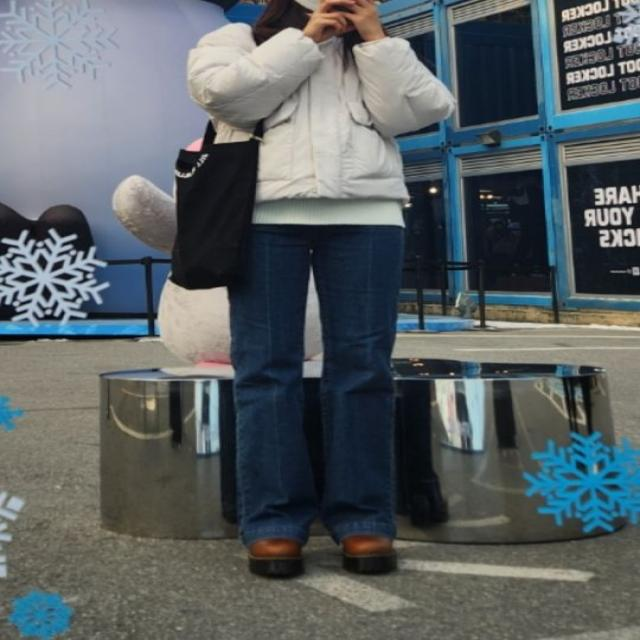denimpants: (228, 214, 411, 549)
padding: (184, 21, 458, 210)
